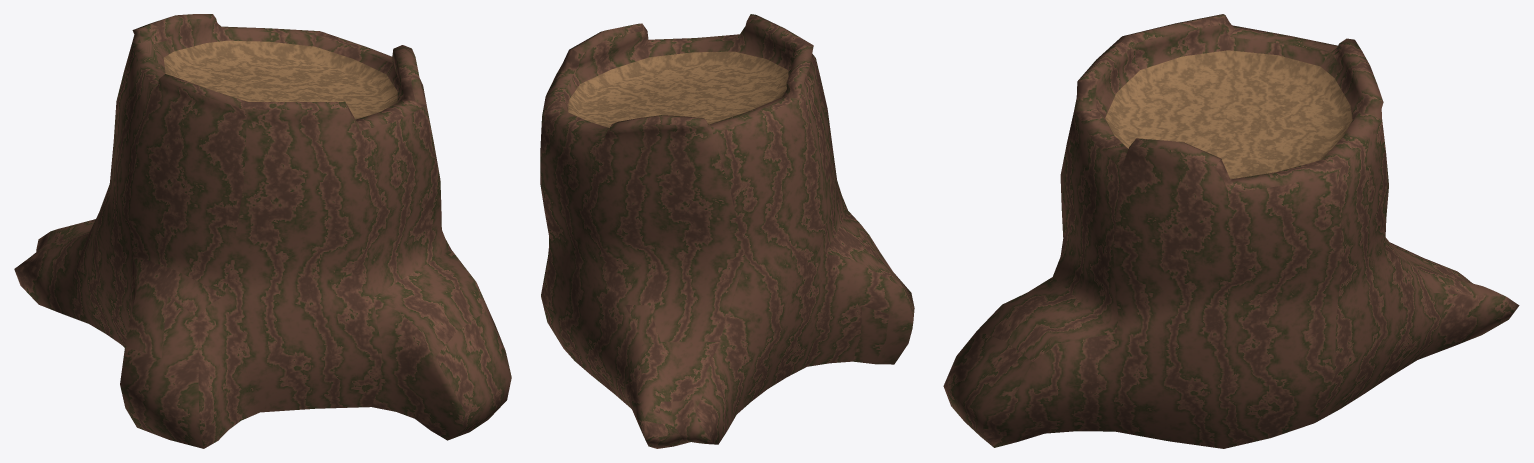
File: TreeStumpSmall.fbx
The picture shows the model from 3 angles, left to right: view 1: azimuth 30°, elevation 25°; view 2: azimuth 150°, elevation 25°; view 3: azimuth 270°, elevation 25°; orthographic projection. The views are drawn at different scales.
Parts seen in each view (by area): view 1: TreeStumpSmall; view 2: TreeStumpSmall; view 3: TreeStumpSmall.
Part boxes in pixels (x1=…): TreeStumpSmall: x1=14, y1=14, x2=511, y2=448; TreeStumpSmall: x1=540, y1=14, x2=914, y2=448; TreeStumpSmall: x1=943, y1=14, x2=1519, y2=448.
Bounding box in the file's own units: 83.76 × 76.15 × 121.
